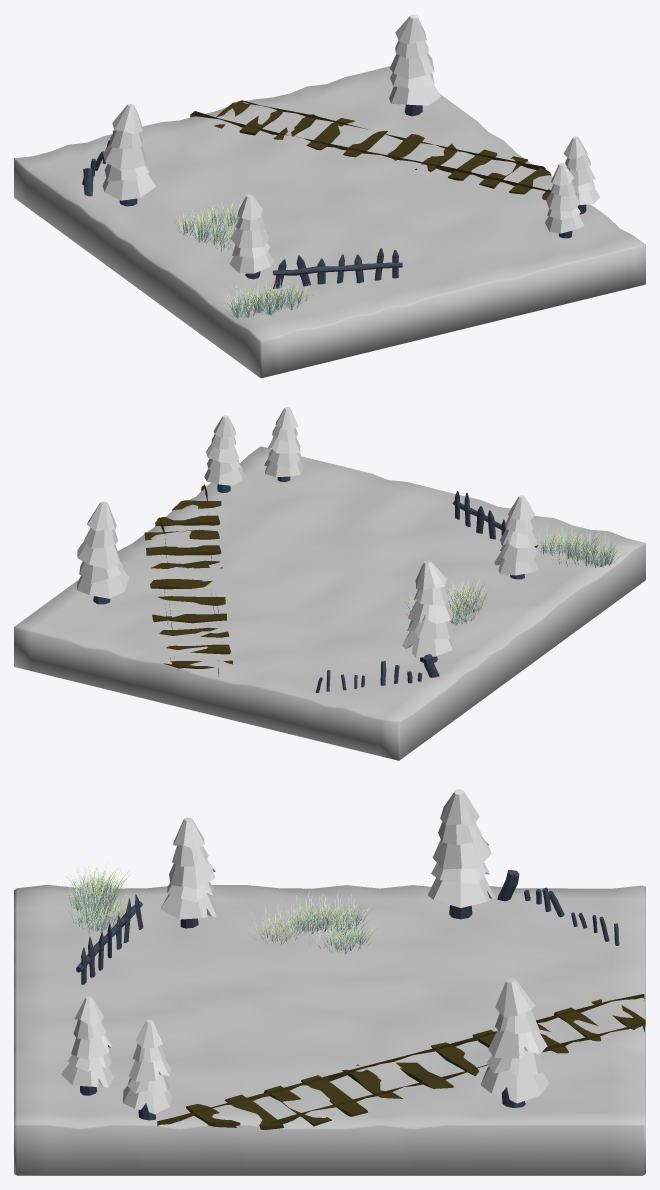
The model's file is MAP-1.fbx.
3 renders of one model, top to bottom at view 1: azimuth 30°, elevation 25°; view 2: azimuth 150°, elevation 25°; view 3: azimuth 270°, elevation 25°, orthographic. The views are drawn at different scales.
Parts seen in each view (by area): view 1: Cube, Cube.004, Cylinder.037, Cylinder.001, Cylinder.025, Cylinder.003, Cylinder.027, Cylinder.007, Cylinder.029, Cylinder.005, Cylinder.009, Cylinder.002 (+2 smaller); view 2: Cube, Cube.004, Cylinder.037, Cylinder.040, Cylinder.025, Cylinder.001, Cylinder.027, Cylinder.003, Cylinder.002, Cylinder.005, Cylinder.026, Cylinder.007 (+5 smaller); view 3: Cube, Cube.004, Cylinder.037, Cylinder.025, Cylinder.001, Cylinder.003, Cylinder.040, Cylinder.027, Cylinder.007, Cylinder.026, Cylinder.029, Cylinder.005 (+11 smaller).
Boxes of the visible parts, box(x1,y1,x2,y2) form: Cube: box(14, 66, 645, 378); Cube.004: box(190, 100, 551, 199); Cylinder.037: box(273, 248, 402, 288); Cylinder.001: box(102, 173, 155, 200); Cylinder.025: box(389, 84, 440, 105); Cylinder.003: box(103, 143, 145, 170); Cylinder.027: box(389, 53, 434, 79); Cylinder.007: box(229, 251, 274, 273); Cylinder.029: box(395, 14, 426, 44); Cylinder.005: box(112, 104, 142, 134); Cylinder.009: box(230, 228, 269, 247); Cylinder.002: box(104, 163, 149, 181); Cube: box(14, 446, 645, 760); Cube.004: box(144, 484, 232, 676); Cylinder.037: box(452, 491, 538, 547); Cylinder.040: box(315, 654, 439, 692); Cylinder.025: box(76, 569, 129, 598); Cylinder.001: box(402, 631, 453, 657); Cylinder.027: box(77, 541, 120, 569); Cylinder.003: box(407, 600, 452, 623); Cylinder.002: box(407, 616, 452, 639); Cylinder.005: box(415, 560, 446, 589); Cylinder.026: box(79, 561, 122, 583); Cylinder.007: box(494, 551, 538, 575); Cube: box(14, 885, 645, 1175); Cube.004: box(157, 994, 645, 1129); Cylinder.037: box(76, 894, 143, 984); Cylinder.025: box(480, 1066, 549, 1103); Cylinder.001: box(427, 875, 494, 907); Cylinder.003: box(432, 835, 491, 869); Cylinder.040: box(497, 870, 619, 945); Cylinder.027: box(488, 1030, 547, 1058); Cylinder.007: box(160, 894, 216, 919); Cylinder.026: box(487, 1049, 545, 1077); Cylinder.029: box(495, 978, 535, 1017); Cylinder.005: box(440, 789, 479, 826).
Size of the model in its own units: 1238 by 404 by 1336.
